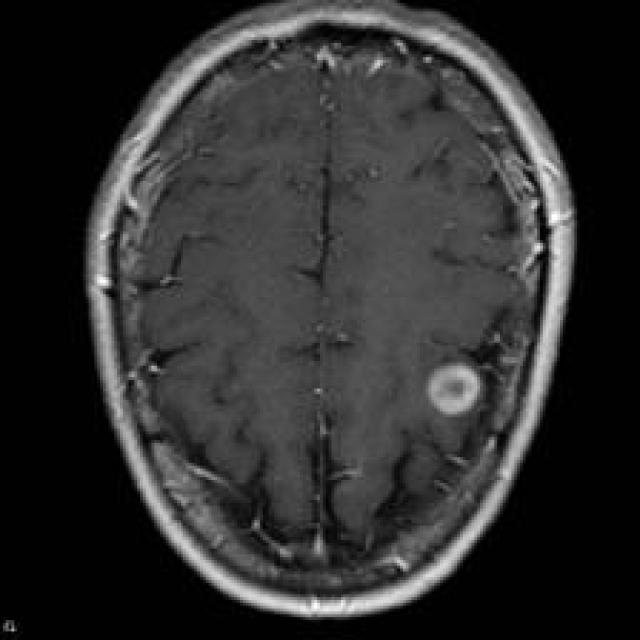glioma_tumor: (411, 338, 499, 438)
